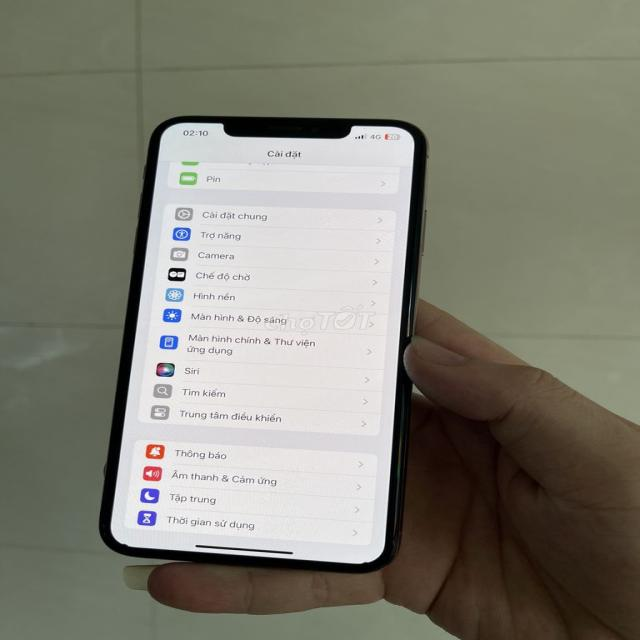gen_x_xs: (99, 116, 428, 572)
